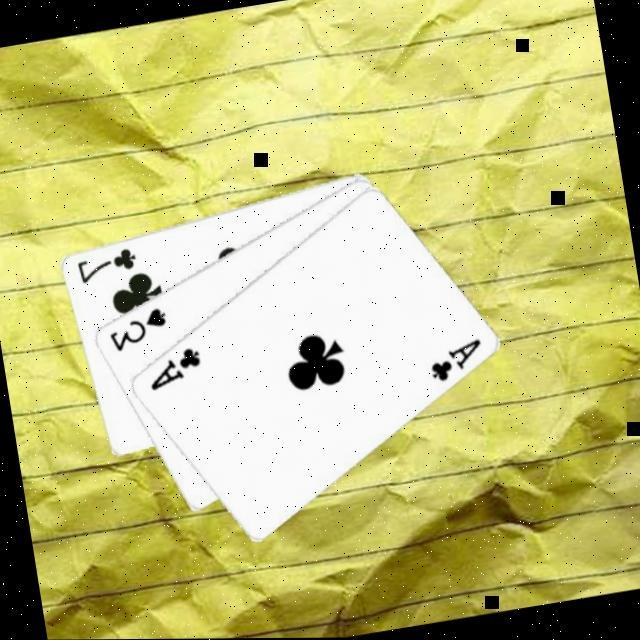3S: (102, 301, 174, 354)
7C: (72, 242, 142, 286)
AC: (142, 341, 208, 393), (424, 334, 489, 386)
